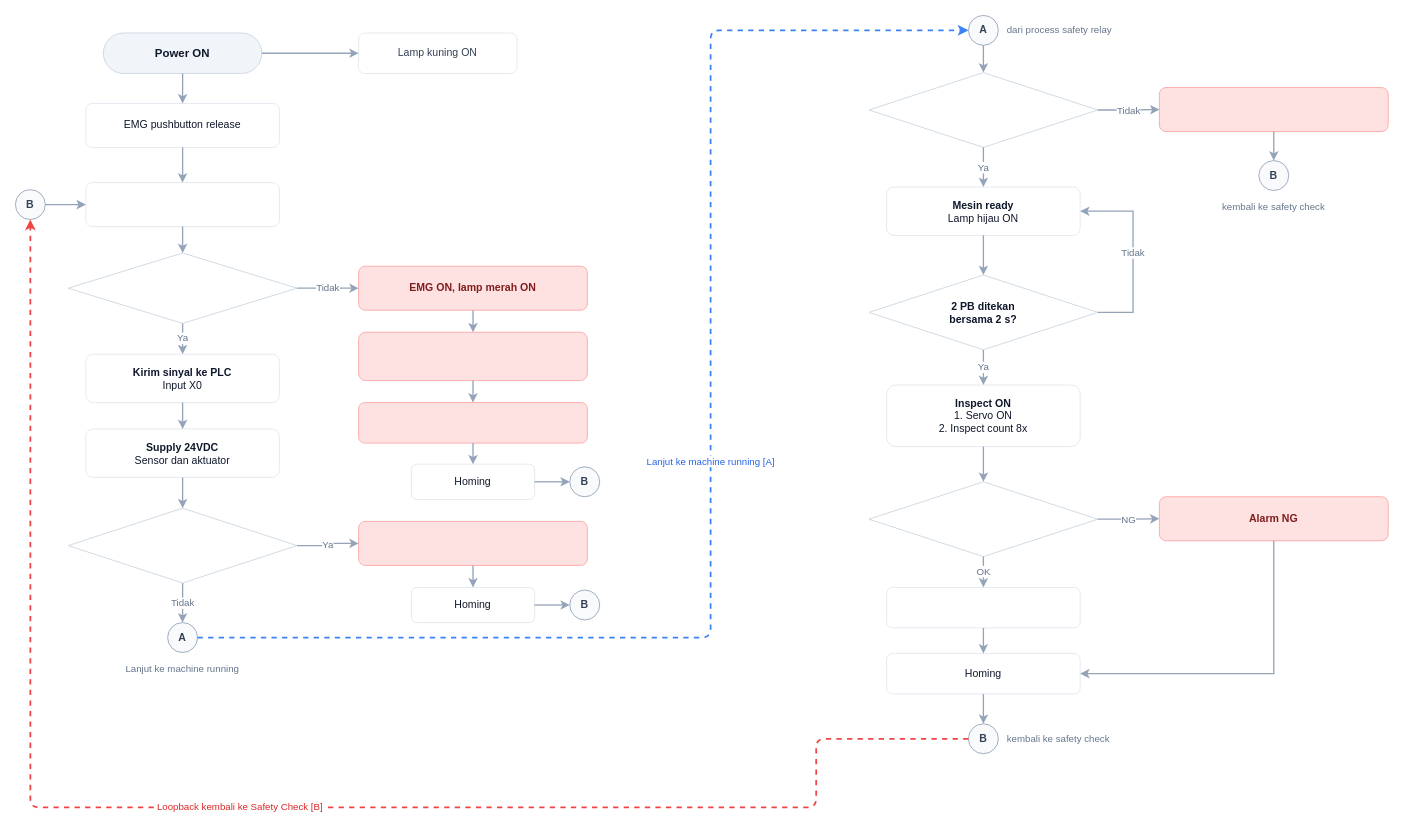
Image size: 1404x831. Some labels were removed from this diagram. Here are the shapes that lost their labels. From the top down, the centre of each, then its label:
At pixel 983 109: "Safety relay ON?".
At pixel 1273 109: "Safety area emergency".
At pixel 182 204: "Safety relay ON".
At pixel 182 287: "Safety check OK?".
At pixel 472 356: "Aktuator OFF, servo brake Alarm menyala".
At pixel 472 422: "Tunggu reset".
At pixel 983 519: "Hasil inspect?".
At pixel 182 545: "Light curtain terhalang?".
At pixel 472 543: "Aktuator OFF, servo brake".
At pixel 983 607: "Stamp label".
